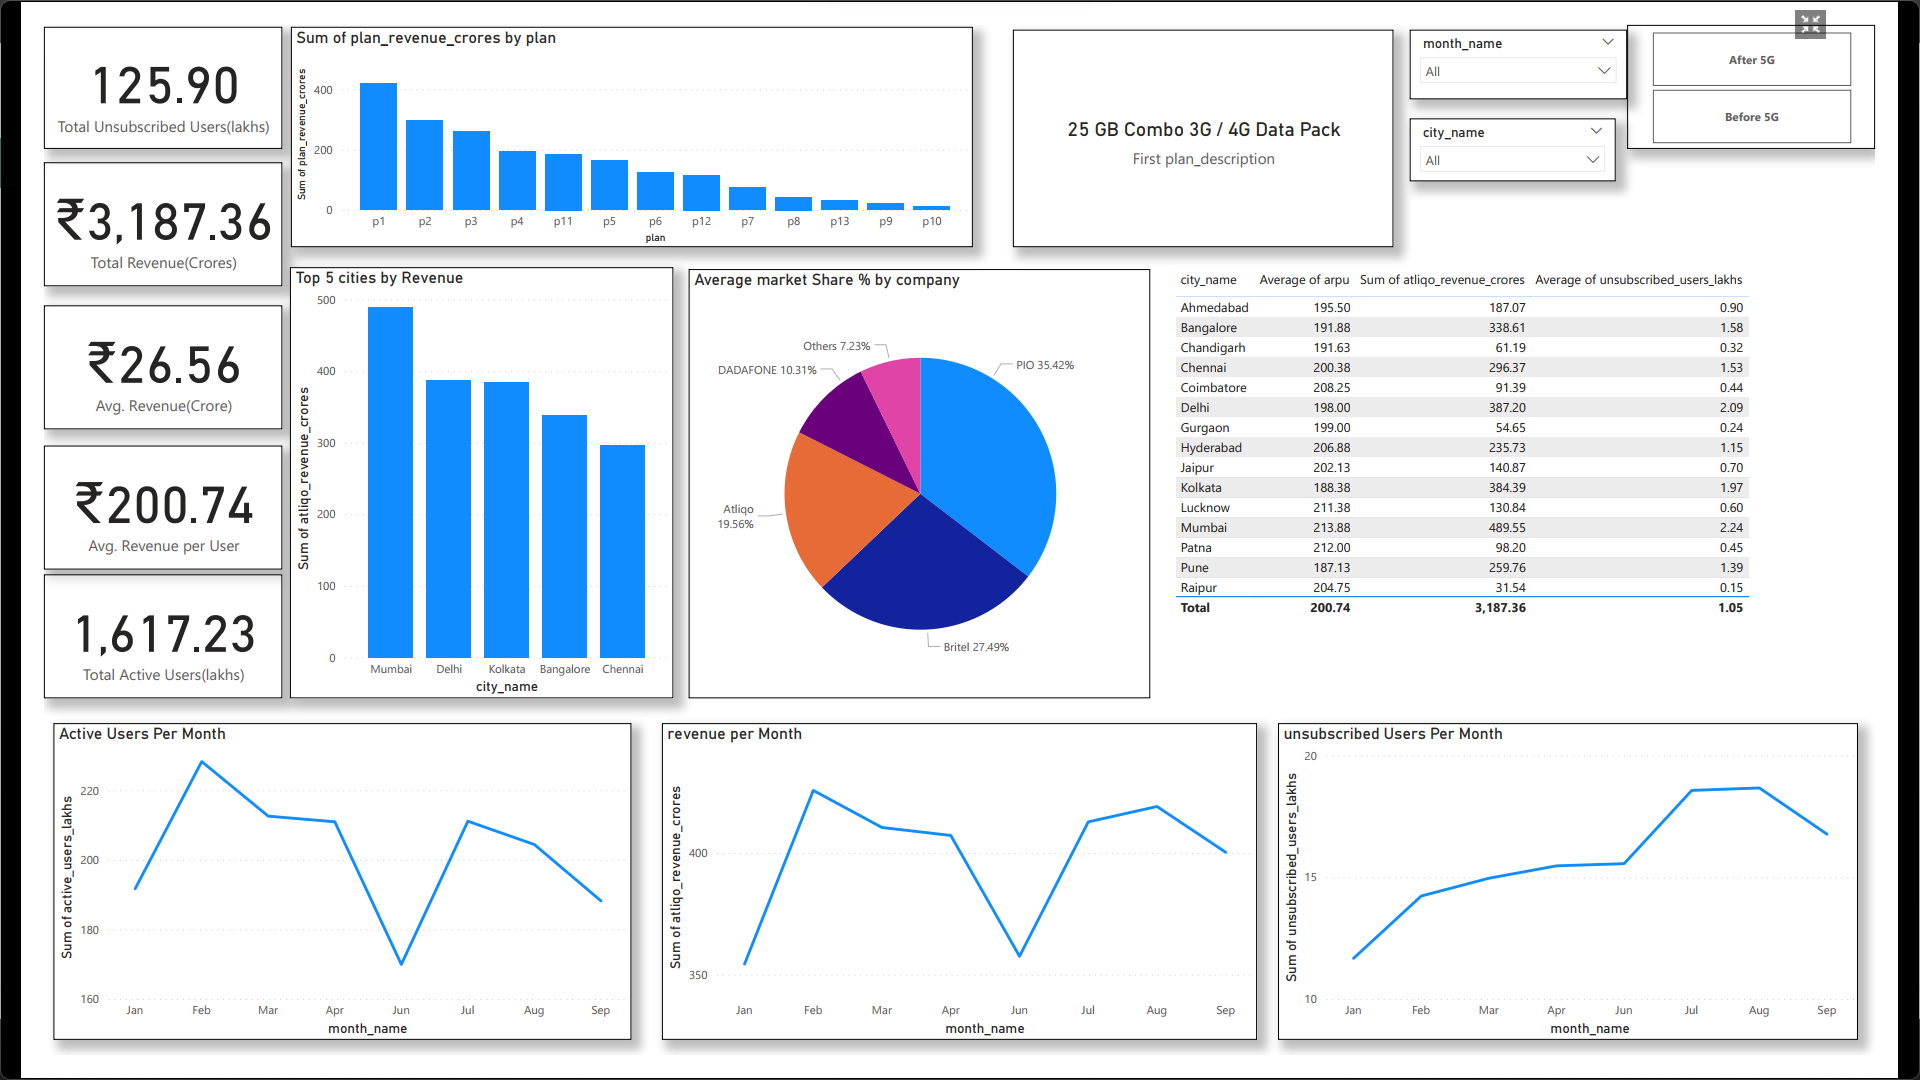

What the dashboard file says about the page in this screenshot:
{"tool":"powerbi","page":{"name":"Page 1","canvas":[1920,1080],"ordinal":4},"visuals":[{"type":"card","fields":{"Values":["m.Total Revenue(Crores)"]},"box":[0,143.7,250.1,130.1],"z":0},{"type":"card","fields":{"Values":["m.Avg. Revenue(Crore)"]},"box":[0,294.1,250.1,130.1],"z":1000},{"type":"card","fields":{"Values":["m.Avg. Revenue per User"]},"box":[0,441.1,250.1,130.1],"z":2000},{"type":"card","fields":{"Values":["m.Total Active Users"]},"box":[0,576.3,250.1,130.1],"z":3000},{"type":"card","fields":{"Values":["m.Total Unsubscribed Users(lakhs)"]},"box":[0,1.7,250.1,128.5],"z":4000},{"type":"lineChart","title":"Active Users Per Month","fields":{"Y":["Sum(fact_atliqo_metrics.active_users_lakhs)"],"Category":["dim_date.month_name"]},"box":[10,732,606,332],"z":5000},{"type":"slicer","fields":{"Values":["dim_date.before/after_5g"]},"box":[1660,0,260,130],"z":6000},{"type":"lineChart","title":"unsubscribed Users Per Month","fields":{"Y":["Sum(fact_atliqo_metrics.unsubscribed_users_lakhs)"],"Category":["dim_date.month_name"]},"box":[1294,732,608,332],"z":7000},{"type":"lineChart","title":"revenue per Month","fields":{"Y":["Sum(fact_atliqo_metrics.atliqo_revenue_crores)"],"Category":["dim_date.month_name"]},"box":[648,732,624,332],"z":8000},{"type":"pieChart","fields":{"Category":["fact_market_share.company"],"Y":["fact_market_share.Average market Share %"]},"box":[676,256,484,450],"z":9000},{"type":"columnChart","title":"Top 5 cities by Revenue","fields":{"Category":["dim_cities.city_name"],"Y":["Sum(fact_atliqo_metrics.atliqo_revenue_crores)"]},"box":[258,254,402,452],"z":10000},{"type":"slicer","fields":{"Values":["dim_cities.city_name"]},"box":[1431.5,98,216.3,65.9],"z":11000},{"type":"slicer","fields":{"Values":["dim_date.month_name"]},"box":[1431.5,5.1,228.2,72.7],"z":12000},{"type":"columnChart","fields":{"Category":["dim_plan.plan"],"Y":["Sum(fact_plan_revenue.plan_revenue_crores)"]},"box":[258.6,1.7,714.9,231.5],"z":13000},{"type":"card","fields":{"Values":["Min(dim_plan.plan_description)"]},"box":[1015.8,5.1,398.9,228.2],"z":14000},{"type":"tableEx","fields":{"Values":["dim_cities.city_name","Avg(fact_atliqo_metrics.arpu)","Sum(fact_atliqo_metrics.atliqo_revenue_crores)","Avg(fact_atliqo_metrics.unsubscribed_users_lakhs)"]},"box":[1181.4,251.8,720,454.6],"z":15000}]}

Visuals, with their boxes in screenshot pixels (x1, y1, x2, y2), scaled from the page's 1920x1080 canvas onto the 1920x1080 screenshot:
card - m.Total Revenue(Crores): select_region(0, 144, 250, 274)
card - m.Avg. Revenue(Crore): select_region(0, 294, 250, 424)
card - m.Avg. Revenue per User: select_region(0, 441, 250, 571)
card - m.Total Active Users: select_region(0, 576, 250, 706)
card - m.Total Unsubscribed Users(lakhs): select_region(0, 2, 250, 130)
"Active Users Per Month" lineChart: select_region(10, 732, 616, 1064)
slicer - dim_date.before/after_5g: select_region(1660, 0, 1919, 130)
"unsubscribed Users Per Month" lineChart: select_region(1294, 732, 1902, 1064)
"revenue per Month" lineChart: select_region(648, 732, 1272, 1064)
pieChart - fact_market_share.company x fact_market_share.Average market Share %: select_region(676, 256, 1160, 706)
"Top 5 cities by Revenue" columnChart: select_region(258, 254, 660, 706)
slicer - dim_cities.city_name: select_region(1432, 98, 1648, 164)
slicer - dim_date.month_name: select_region(1432, 5, 1660, 78)
columnChart - dim_plan.plan x Sum(fact_plan_revenue.plan_revenue_crores): select_region(259, 2, 974, 233)
card - Min(dim_plan.plan_description): select_region(1016, 5, 1415, 233)
tableEx - dim_cities.city_name x Avg(fact_atliqo_metrics.arpu): select_region(1181, 252, 1901, 706)
